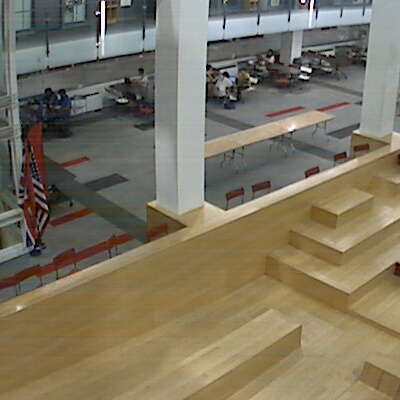head: (56, 87, 69, 100), (43, 86, 53, 96), (137, 66, 147, 76), (221, 70, 231, 80), (238, 67, 248, 77), (265, 48, 275, 58)
